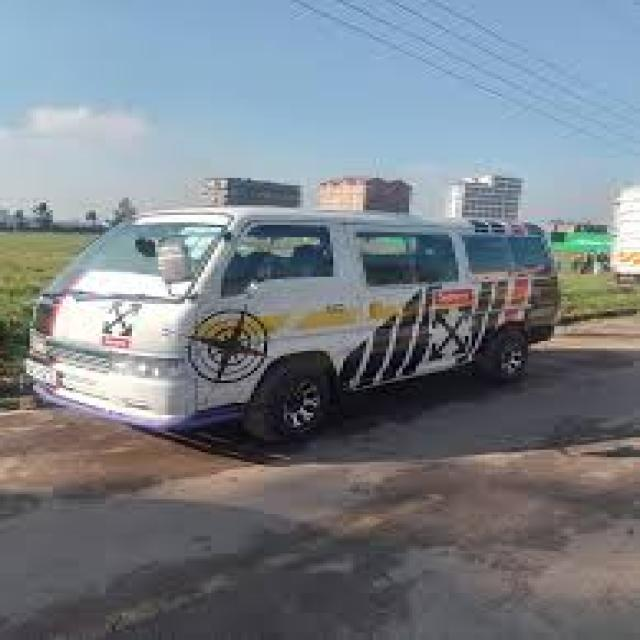matatu: (6, 133, 612, 519)
